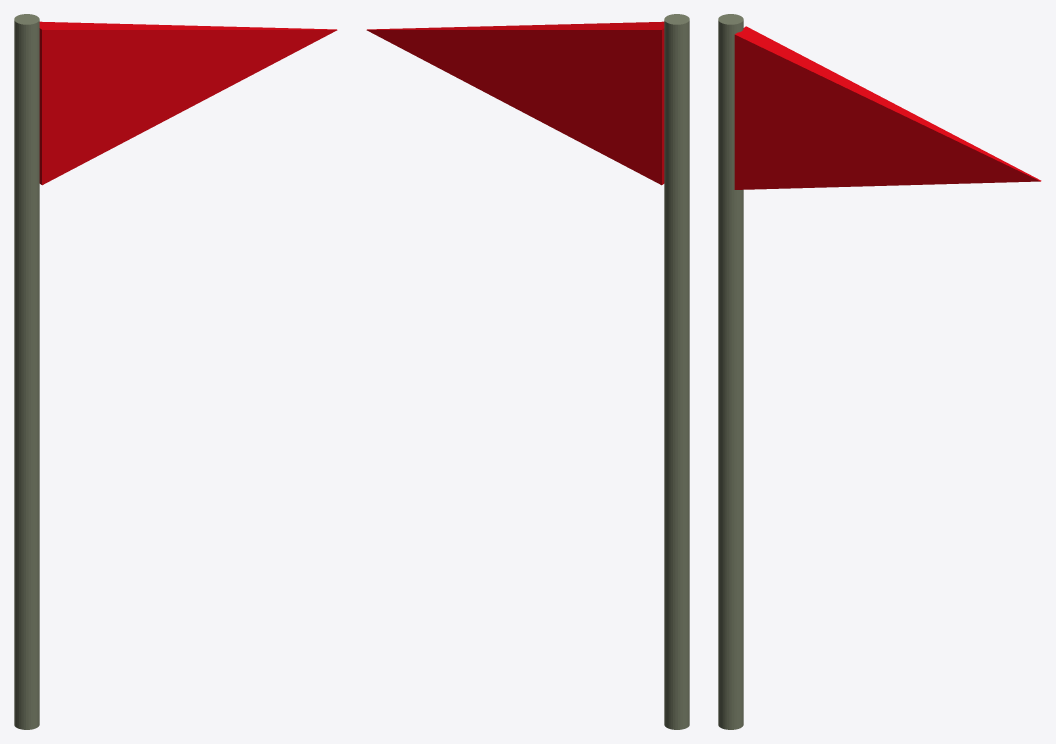
The model's file is Flag.fbx.
The picture shows the model from 3 angles, left to right: view 1: azimuth 30°, elevation 25°; view 2: azimuth 150°, elevation 25°; view 3: azimuth 330°, elevation 25°; orthographic projection.
Visible parts, largest first — view 1: Cube; view 2: Cube; view 3: Cube.
Part boxes in pixels (<box>): Cube: <box>14,14,337,729</box>; Cube: <box>366,14,689,729</box>; Cube: <box>718,14,1041,729</box>.
Bounding box in the file's own units: 433 × 907 × 29.72.
